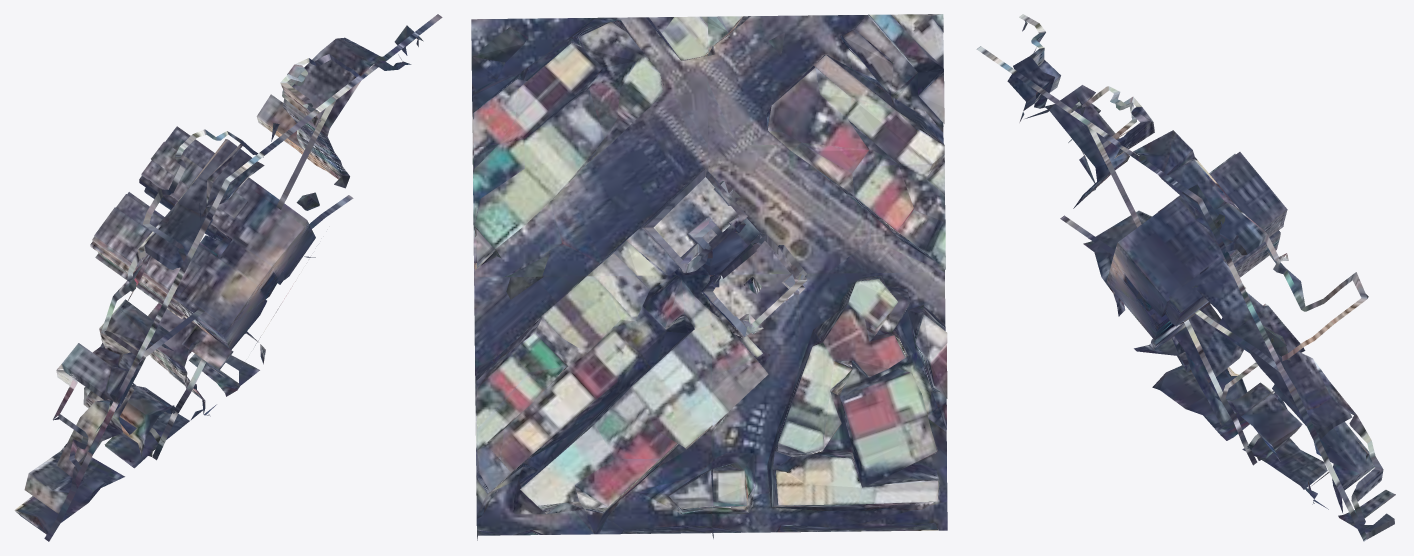
3 views of the same model, side by side, from view 1: azimuth 30°, elevation 25°; view 2: azimuth 150°, elevation 25°; view 3: azimuth 270°, elevation 25° (orthographic). The views are drawn at different scales.
Size of the model in its own units: 157 by 147 by 138.
2 materials, 2 textured.
